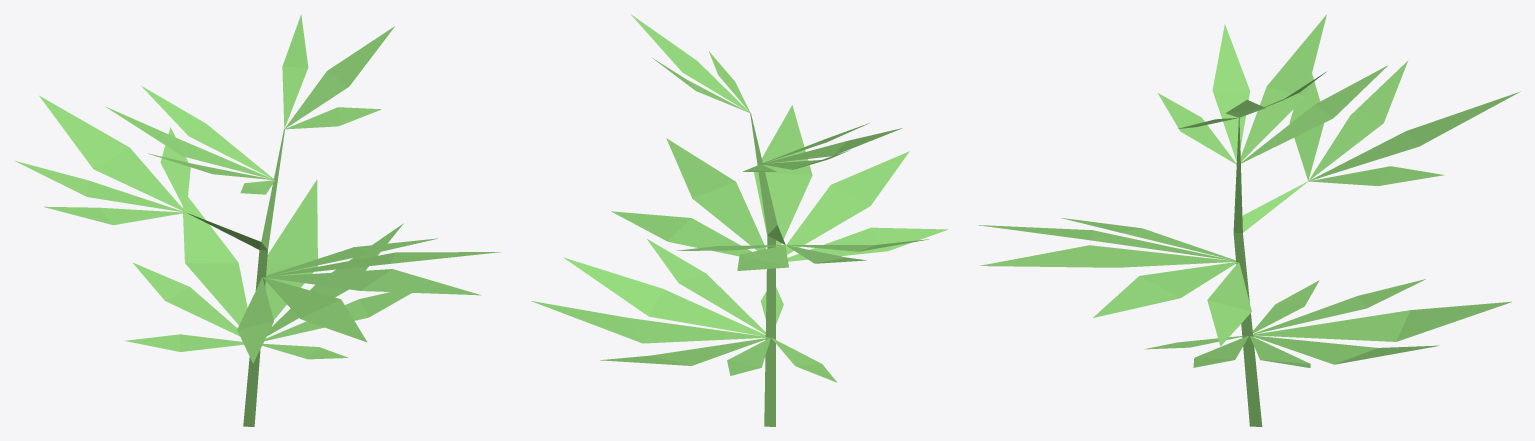
File: Plant_i_TwoS_06.fbx
3 views of the same model, side by side, from view 1: azimuth 30°, elevation 25°; view 2: azimuth 150°, elevation 25°; view 3: azimuth 270°, elevation 25° (orthographic). The views are drawn at different scales.
Parts seen in each view (by area): view 1: Plant_i_TwoS_06; view 2: Plant_i_TwoS_06; view 3: Plant_i_TwoS_06.
Boxes of the visible parts, box(x1,y1,x2,y2) form: Plant_i_TwoS_06: box(15, 14, 500, 426); Plant_i_TwoS_06: box(531, 14, 947, 426); Plant_i_TwoS_06: box(978, 14, 1520, 426).
Bounding box in the file's own units: 45.42 × 44.17 × 54.28.
